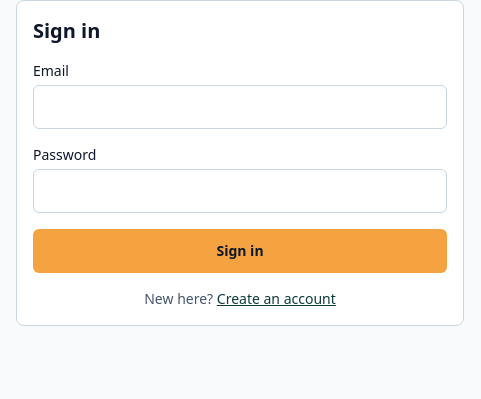
Test: SignInPage › shows one alert on invalid credentials and keeps the email
This screenshot has width=481, height=399.
Step 1. Type "asha@demo.bonvoyage.test" into the field labelled "Email" → (240, 107), box x1=33 y1=85 x2=447 y2=129
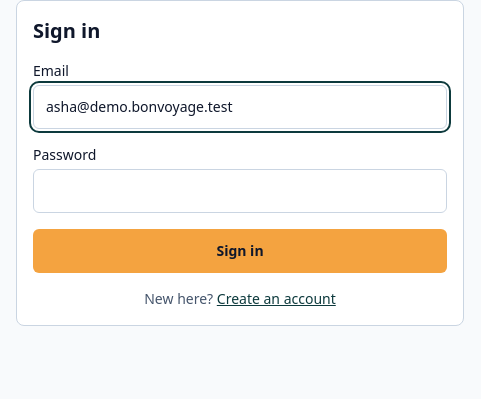
Step 2. Type "wrong-password" into the password field labelled "Password" → (240, 191), box x1=33 y1=169 x2=447 y2=213
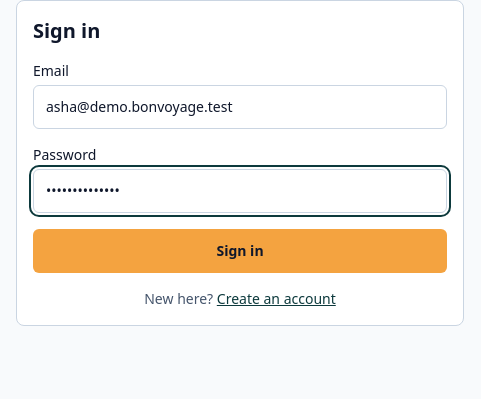
Step 3. Click the button "Sign in" → (240, 251), box x1=33 y1=229 x2=447 y2=273
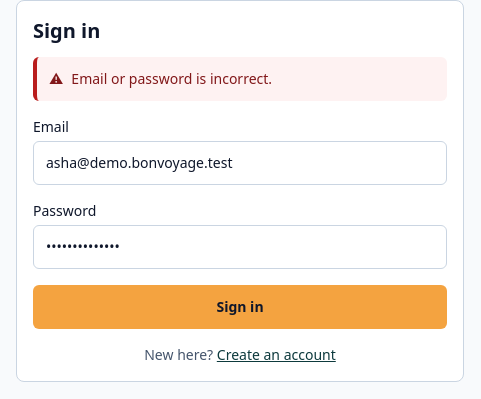
Result: the message shows "Email or password is incorrect." at x1=71 y1=69 x2=272 y2=88
